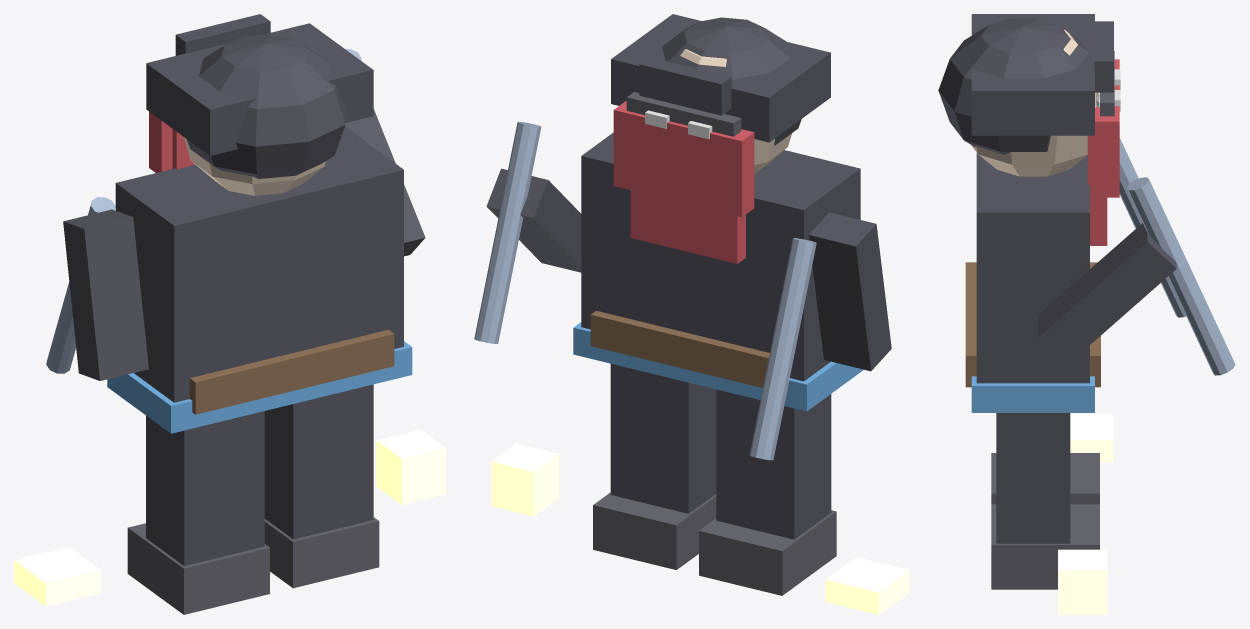
The model's file is boss_bandit.glb.
3 renders of one model, left to right at view 1: azimuth 30°, elevation 25°; view 2: azimuth 150°, elevation 25°; view 3: azimuth 270°, elevation 25°, orthographic. The views are drawn at different scales.
Parts seen in each view (by area): view 1: boss_bandit; view 2: boss_bandit; view 3: boss_bandit.
Part boxes in pixels (x1,y1,x2,y2): boss_bandit: (14, 14, 445, 614); boss_bandit: (474, 14, 909, 614); boss_bandit: (938, 14, 1235, 614).
Size of the model in its own units: 1.82 by 2.31 by 1.21.
